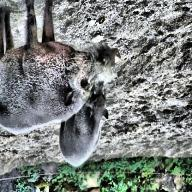boar: (0, 14, 121, 139), (66, 75, 125, 171)
